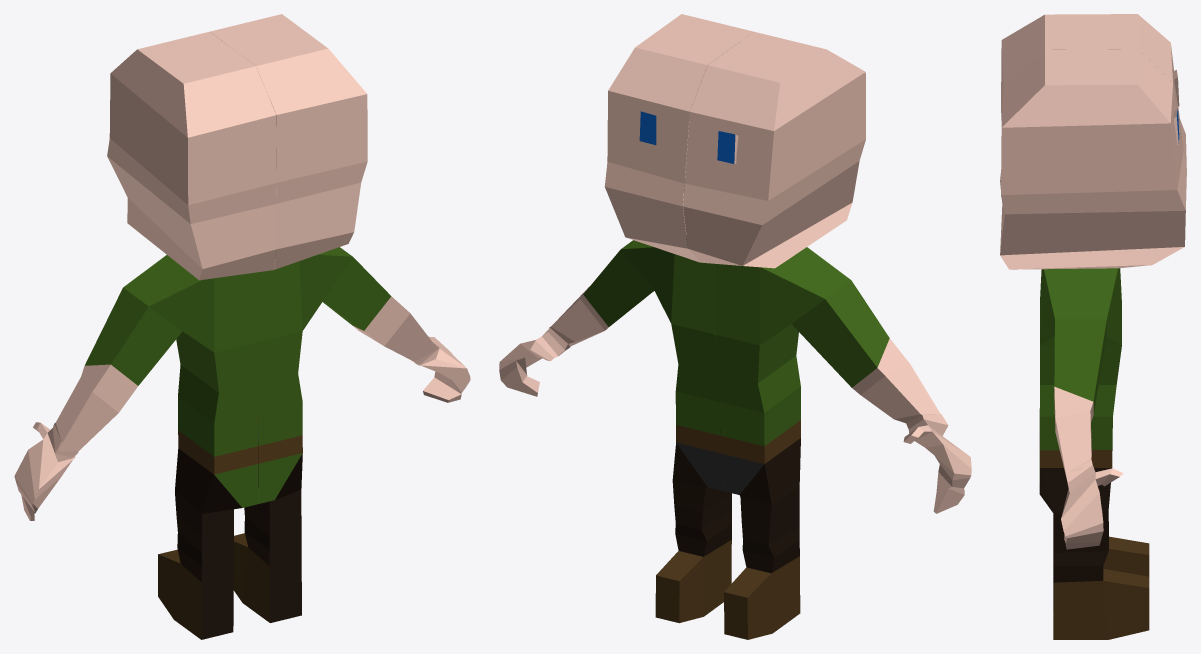
Rendered from comp3015.obj.
3 views of the same model, side by side, from view 1: azimuth 30°, elevation 25°; view 2: azimuth 150°, elevation 25°; view 3: azimuth 270°, elevation 25° (orthographic).
Parts seen in each view (by area): view 1: Cube; view 2: Cube; view 3: Cube.
Part boxes in pixels (left/top/right/bottom): Cube: left=14, top=14, right=470, bottom=639; Cube: left=499, top=14, right=971, bottom=639; Cube: left=1000, top=14, right=1186, bottom=639.
Size of the model in its own units: 3.18 by 3.85 by 1.15.
